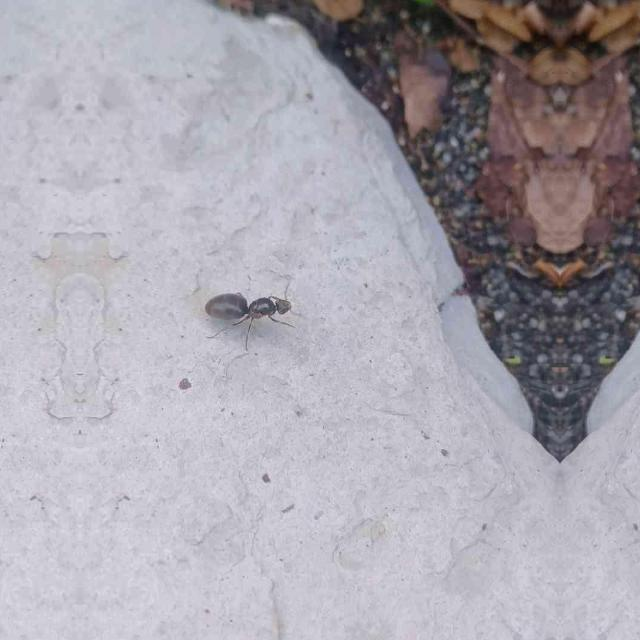Lasius: (204, 277, 296, 345)
